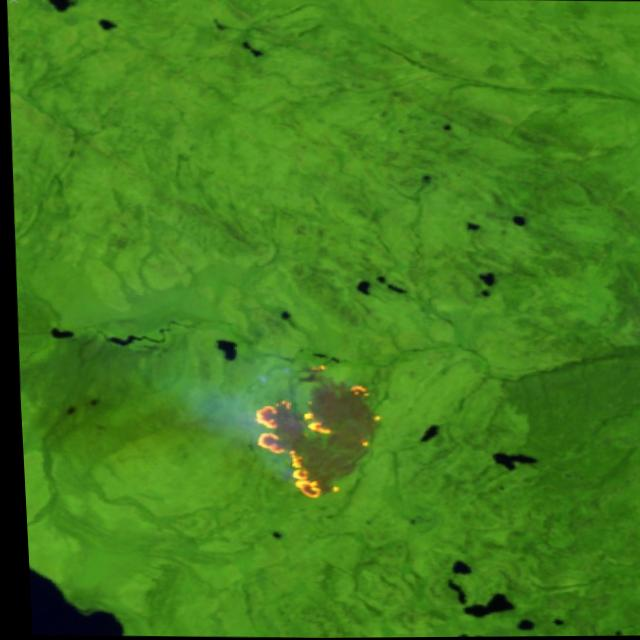fire: (236, 361, 390, 505)
